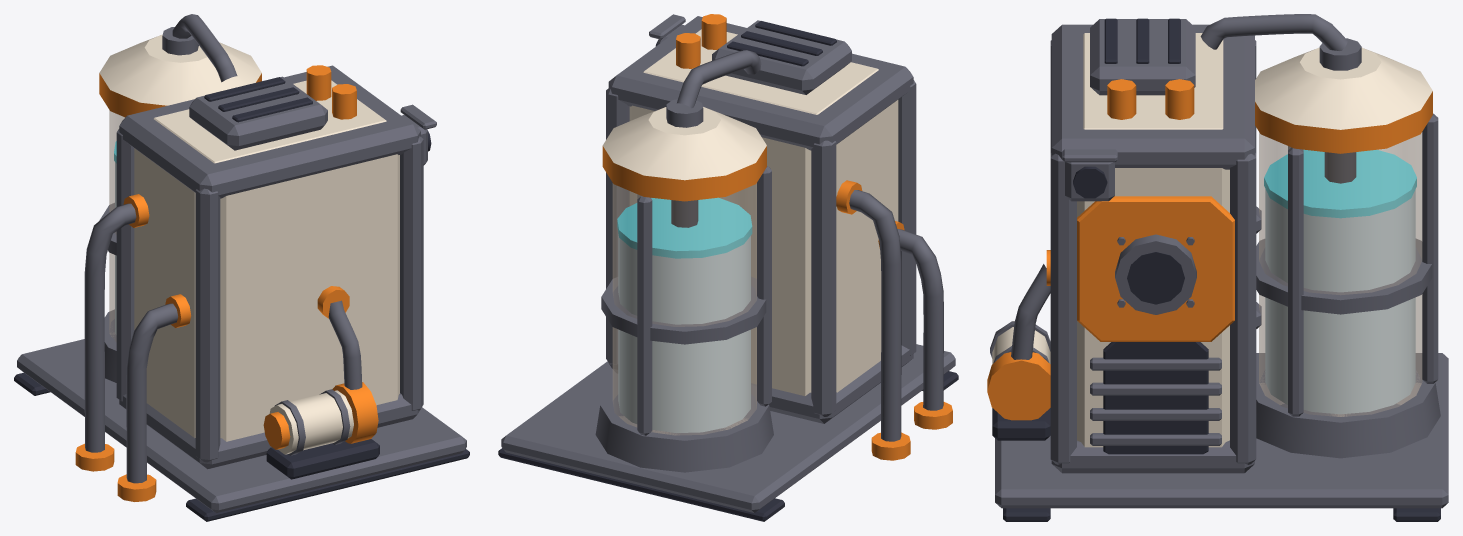
The model's file is asset.glb.
3 views of the same model, side by side, from view 1: azimuth 30°, elevation 25°; view 2: azimuth 150°, elevation 25°; view 3: azimuth 270°, elevation 25° (orthographic). The views are drawn at different scales.
Visible parts, largest first — view 1: Ivory filter cabinet, cabinet_smooth-structure_structure-gray, water-recycler_smooth-structure_structure-gray, Tank dome, pump_accent-paint, Pump motor, water-recycler_accent-paint, Pump mount, water-recycler_dark-trim, pump_smooth-structure_structure-gray, cabinet_dark-trim, water_tank_smooth-structure_structure-gray (+4 smaller); view 2: cabinet_smooth-structure_structure-gray, water-recycler_smooth-structure_structure-gray, Ivory filter cabinet, Tank glass, water_tank_smooth-structure_structure-gray, Tank water, Tank dome, Water surface, Tank top band, water-recycler_dark-trim, water-recycler_accent-paint, cabinet_dark-trim (+3 smaller); view 3: cabinet_smooth-structure_structure-gray, Tank glass, water-recycler_smooth-structure_structure-gray, Tank water, water_tank_smooth-structure_structure-gray, cabinet_accent-paint, Ivory filter cabinet, Tank dome, cabinet_dark-trim, Water surface, Tank top band, pump_accent-paint (+9 smaller).
Boxes of the visible parts, x1=… form: Ivory filter cabinet: x1=134, y1=80, x2=399, y2=441; cabinet_smooth-structure_structure-gray: x1=116, y1=65, x2=423, y2=469; water-recycler_smooth-structure_structure-gray: x1=17, y1=14, x2=466, y2=513; Tank dome: x1=99, y1=34, x2=261, y2=105; pump_accent-paint: x1=263, y1=286, x2=378, y2=449; Pump motor: x1=269, y1=390, x2=353, y2=454; water-recycler_accent-paint: x1=75, y1=194, x2=191, y2=501; Pump mount: x1=266, y1=439, x2=379, y2=479; water-recycler_dark-trim: x1=14, y1=372, x2=469, y2=521; pump_smooth-structure_structure-gray: x1=275, y1=300, x2=362, y2=455; cabinet_dark-trim: x1=204, y1=77, x2=312, y2=122; water_tank_smooth-structure_structure-gray: x1=99, y1=27, x2=198, y2=382; cabinet_smooth-structure_structure-gray: x1=606, y1=16, x2=916, y2=423; water-recycler_smooth-structure_structure-gray: x1=501, y1=50, x2=955, y2=512; Ivory filter cabinet: x1=629, y1=29, x2=898, y2=395; Tank glass: x1=612, y1=183, x2=756, y2=435; water_tank_smooth-structure_structure-gray: x1=595, y1=99, x2=773, y2=472; Tank water: x1=618, y1=234, x2=750, y2=432; Tank dome: x1=603, y1=107, x2=766, y2=180; Water surface: x1=617, y1=197, x2=752, y2=258; Tank top band: x1=602, y1=146, x2=766, y2=201; water-recycler_dark-trim: x1=498, y1=371, x2=958, y2=521; water-recycler_accent-paint: x1=836, y1=180, x2=952, y2=460; cabinet_dark-trim: x1=727, y1=21, x2=836, y2=66; cabinet_smooth-structure_structure-gray: x1=1050, y1=19, x2=1256, y2=473; Tank glass: x1=1259, y1=132, x2=1422, y2=416; water-recycler_smooth-structure_structure-gray: x1=995, y1=14, x2=1448, y2=508; Tank water: x1=1265, y1=189, x2=1415, y2=414; water_tank_smooth-structure_structure-gray: x1=1256, y1=38, x2=1440, y2=458; cabinet_accent-paint: x1=1077, y1=79, x2=1234, y2=341; Ivory filter cabinet: x1=1077, y1=33, x2=1229, y2=447; Tank dome: x1=1255, y1=47, x2=1432, y2=129; cabinet_dark-trim: x1=1103, y1=18, x2=1208, y2=454; Water surface: x1=1264, y1=149, x2=1416, y2=218; Tank top band: x1=1255, y1=91, x2=1432, y2=153; pump_accent-paint: x1=987, y1=250, x2=1050, y2=420.
Bounding box in the file's own units: 1.51 × 1.8 × 1.75.
